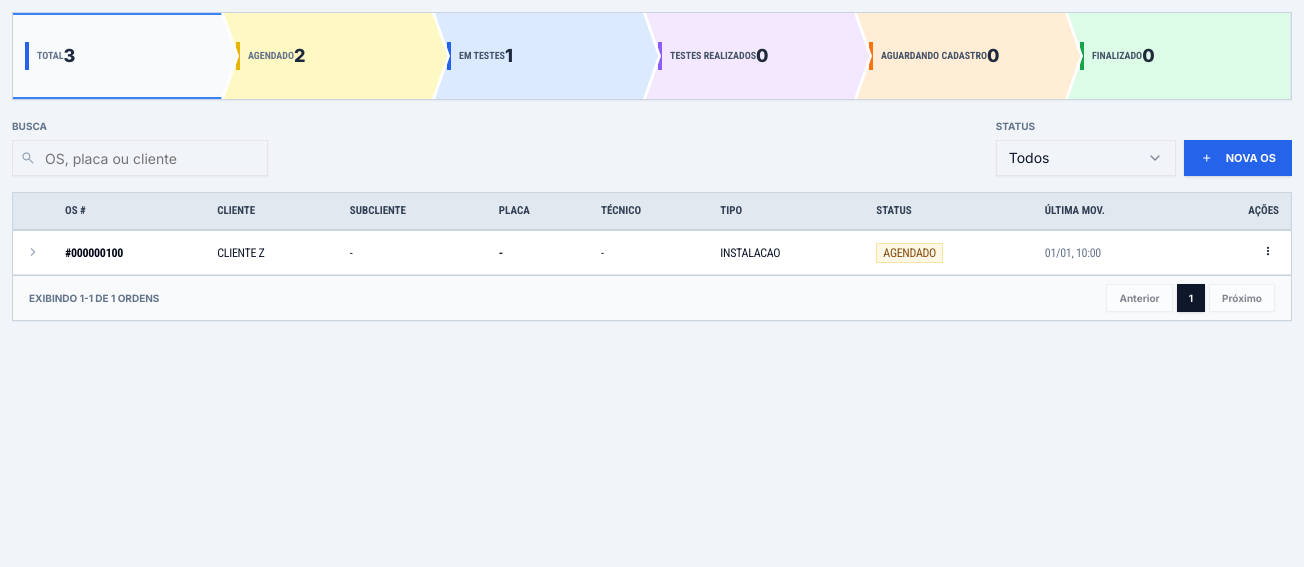
Test: OrdensServicoPage (integração) › sem AGENDAMENTO.OS.EDITAR: ações de mudança de status ficam desabilitadas
Click the row with test id "ordens-servico-row-10": click(652, 252) [13,230,1291,274]
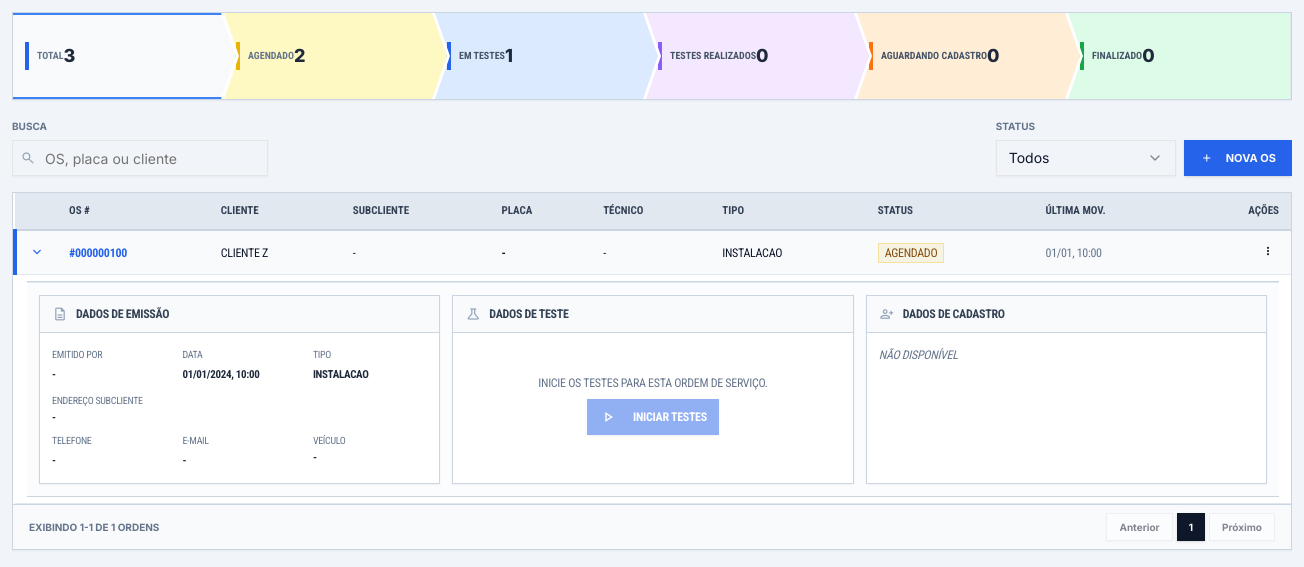
Now the button with test id "ordens-servico-btn-iniciar-testes" is disabled, box [587,399,719,435]
